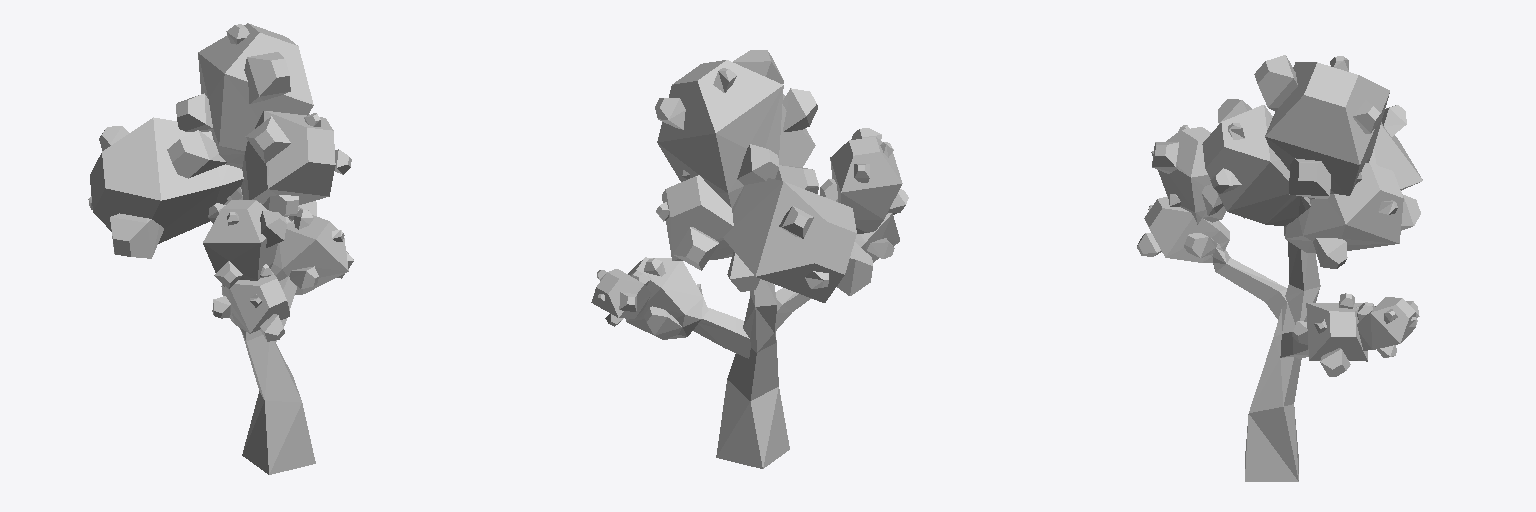
File: tree-watertight.obj
3 renders of one model, left to right at view 1: azimuth 30°, elevation 25°; view 2: azimuth 150°, elevation 25°; view 3: azimuth 270°, elevation 25°, orthographic.
Visible parts, largest first — view 1: Tree; view 2: Tree; view 3: Tree.
Boxes of the visible parts, x1,y1,x2,y2 form: Tree: [88, 23, 353, 474]; Tree: [591, 50, 908, 468]; Tree: [1137, 55, 1422, 481].
Bounding box in the file's own units: 10.59 × 16.73 × 10.6.